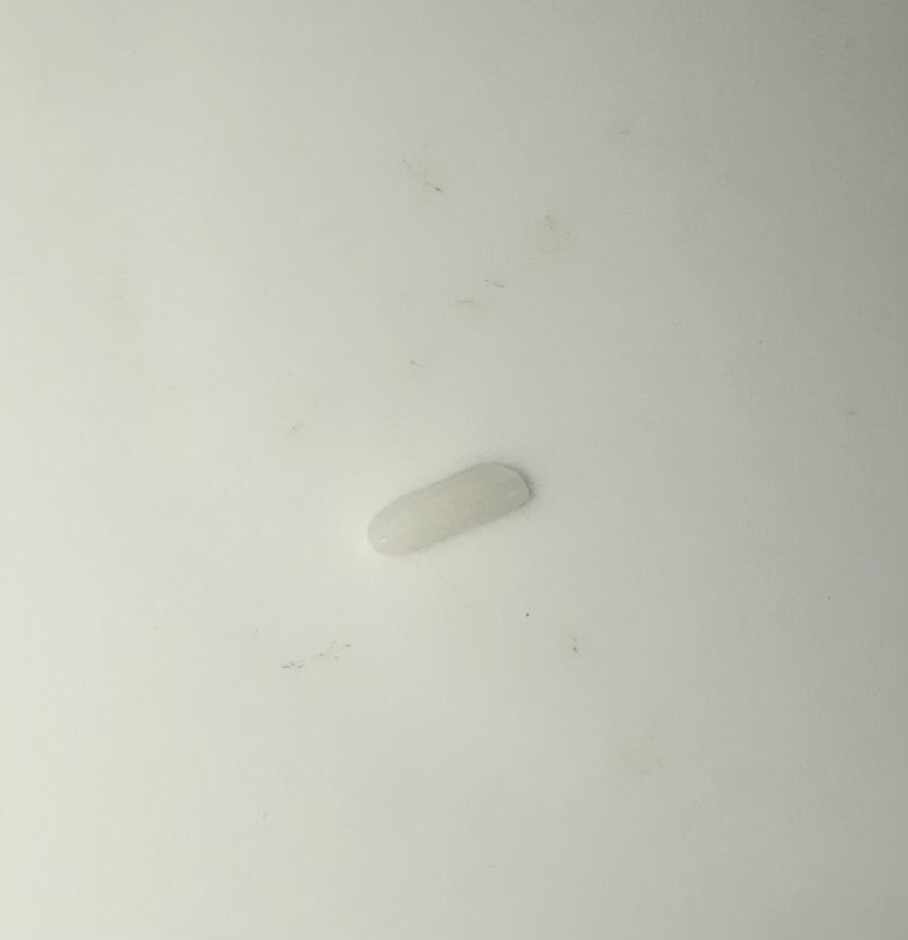Gao Lai Sua: (368, 458, 535, 565)
